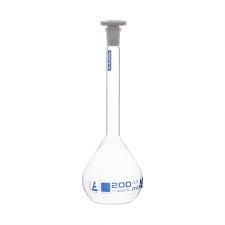Volumetric flask: (74, 16, 150, 210)
